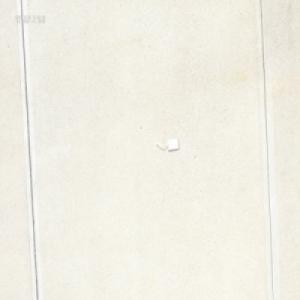LuggageTag: (154, 137, 179, 153)
